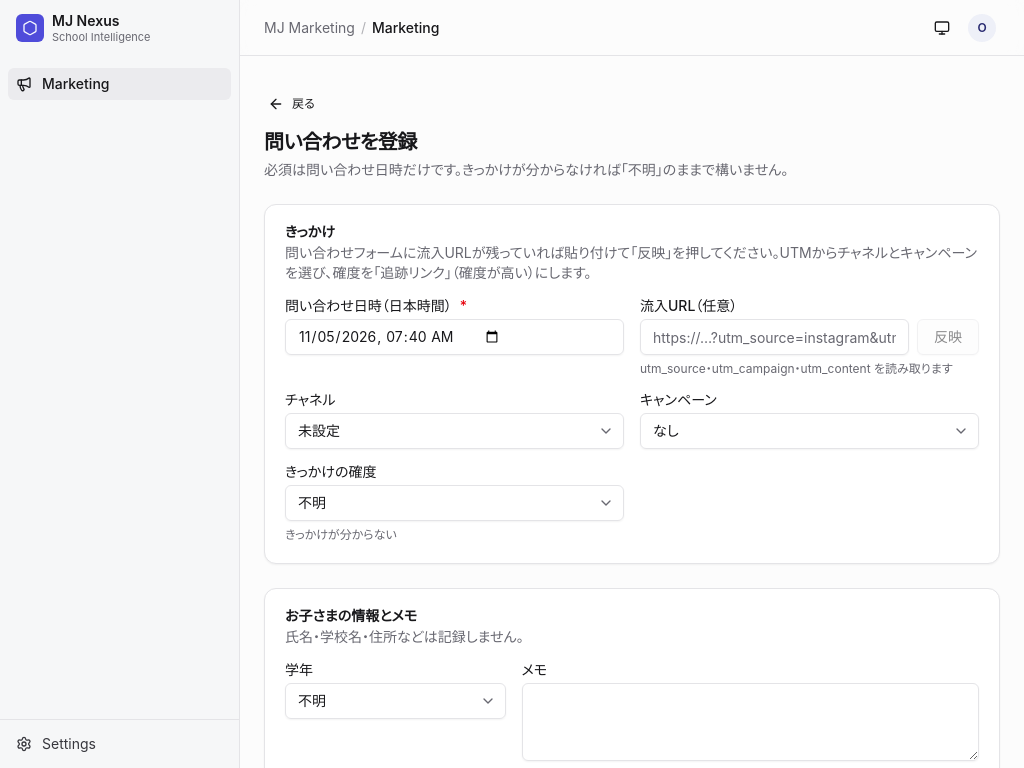
it: Marketing: 問い合わせの登録 › メモに連絡先らしき文字列があれば注意を出す
Type "090-1234-5678 に折り返し" into the text box labelled "メモ".
click(750, 722); type("090-1234-5678 に折り返し")  # box [522, 683, 979, 761]
(page scrolled)
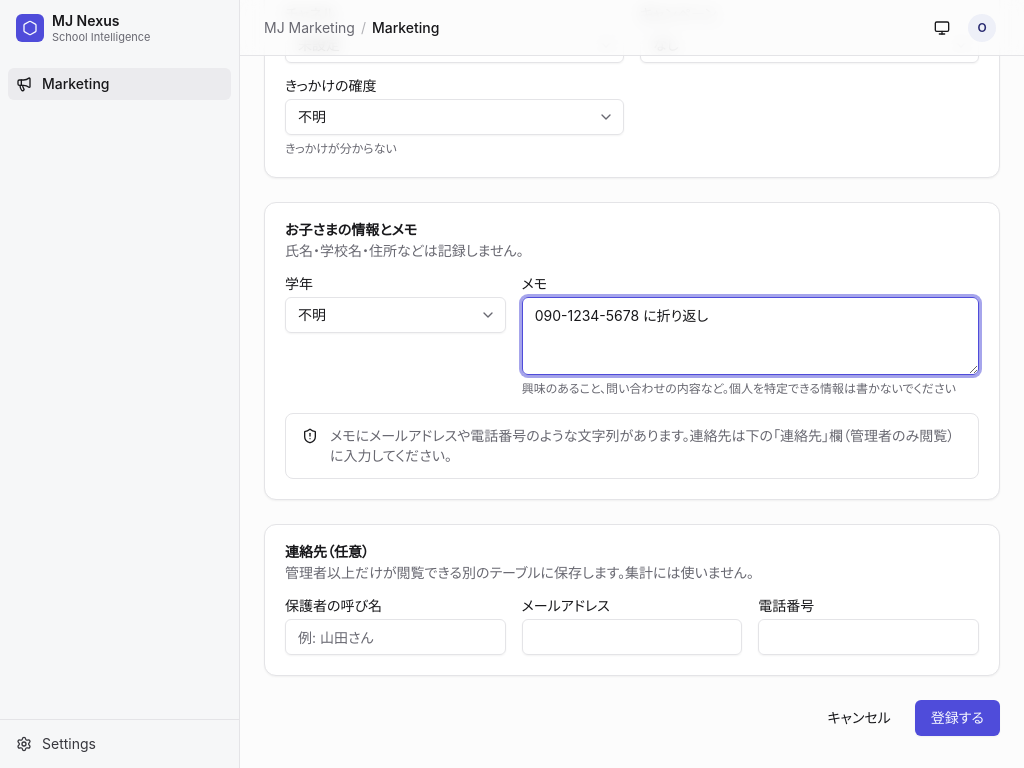
Expected: the field labelled "メールアドレス" is shown, [522, 619, 742, 655]
Expected: the text "メモにメールアドレスや電話番号のような文字列があります。連絡先は下の「連絡先」欄（管理者のみ閲覧）に入力してください。" is shown, [330, 426, 962, 466]
